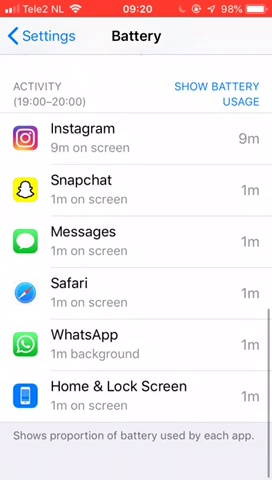activity: (11, 76, 108, 109)
app: (14, 117, 268, 155), (11, 172, 265, 210), (9, 222, 263, 260), (11, 275, 265, 313), (9, 327, 263, 365), (10, 378, 264, 416)
